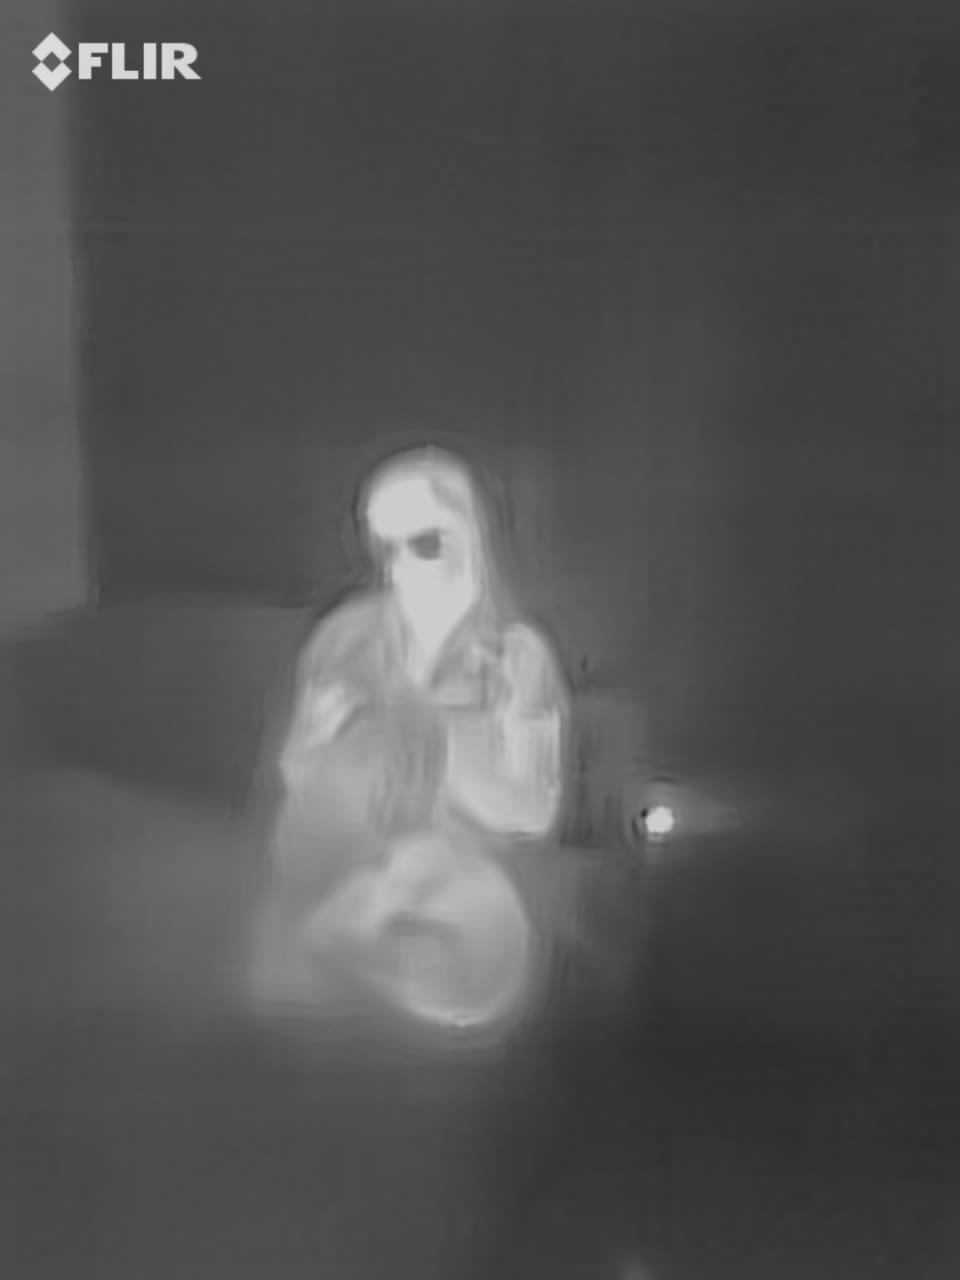head: (352, 441, 484, 615)
